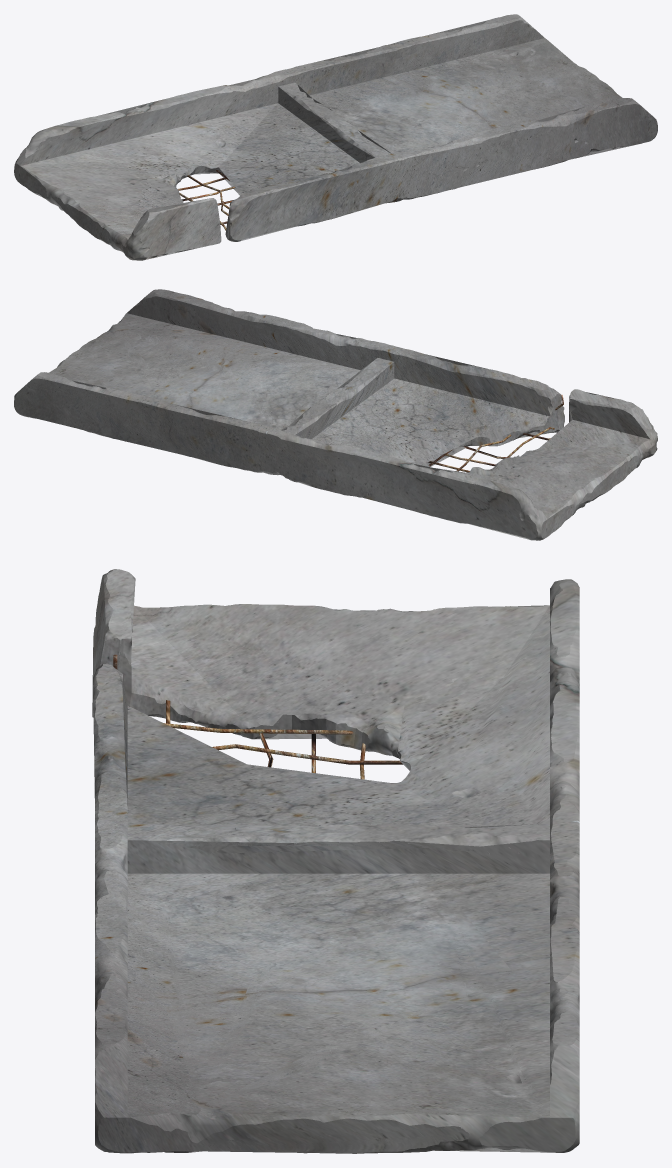
The model's file is plita_bet2_002.fbx.
3 renders of one model, top to bottom at view 1: azimuth 30°, elevation 25°; view 2: azimuth 150°, elevation 25°; view 3: azimuth 270°, elevation 25°, orthographic. The views are drawn at different scales.
Parts seen in each view (by area): view 1: plita_bet_002_2; view 2: plita_bet_002_2; view 3: plita_bet_002_2.
Part boxes in pixels (left/top/right/bottom): plita_bet_002_2: left=14, top=14, right=657, bottom=260; plita_bet_002_2: left=14, top=289, right=657, bottom=540; plita_bet_002_2: left=92, top=569, right=579, bottom=1153.
Bounding box in the file's own units: 600 × 54.55 × 241.
Materials: 2 (2 with a texture image).
